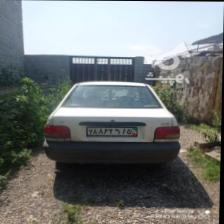plate: (88, 126, 139, 136)
